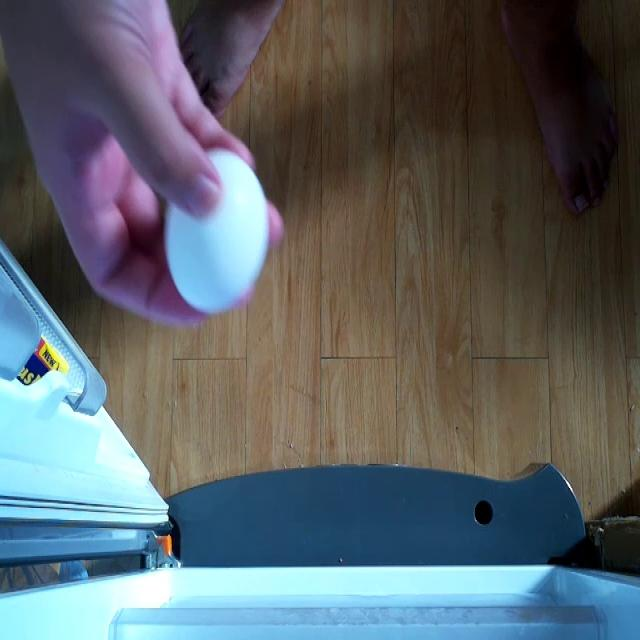egg: (156, 136, 266, 311)
